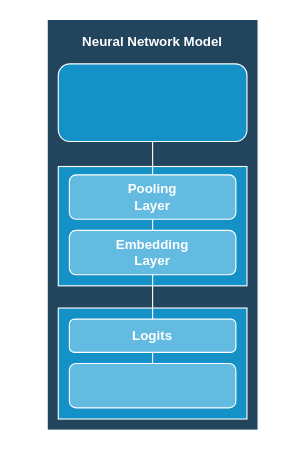
This 304x450 diagram has some shape labels left out. The centre of each missing label's shape, as x and y in pixels:
Feature Processing Trunk (CNN, CRNN, TDNN, etc.): point (152, 102)
Loss Function: point (152, 385)
